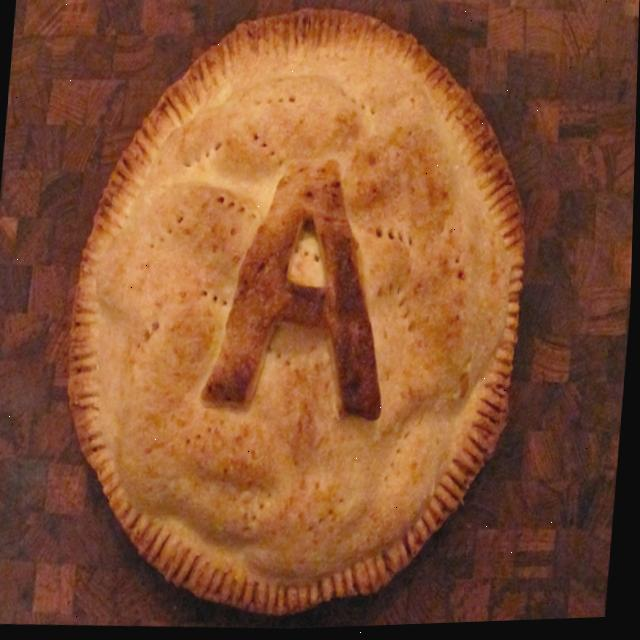炸货点心: (46, 0, 555, 638)
蛋糕甜品: (46, 0, 555, 638)
